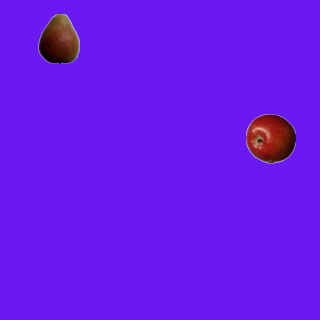Apple Braeburn: (245, 113, 295, 163)
Pear Forelle: (33, 13, 83, 63)
